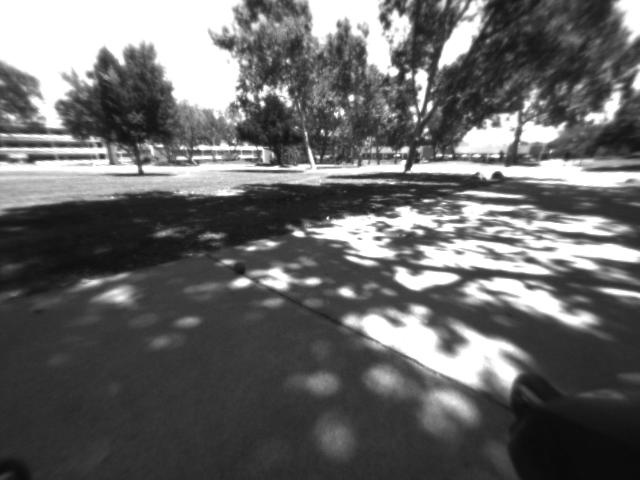dogtoy: (228, 257, 251, 277)
